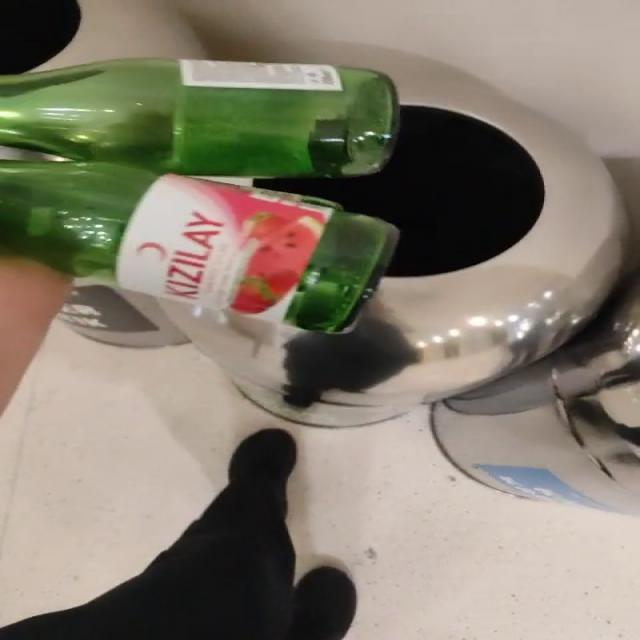Bin: (2, 0, 627, 426)
Glass: (0, 59, 397, 333)
